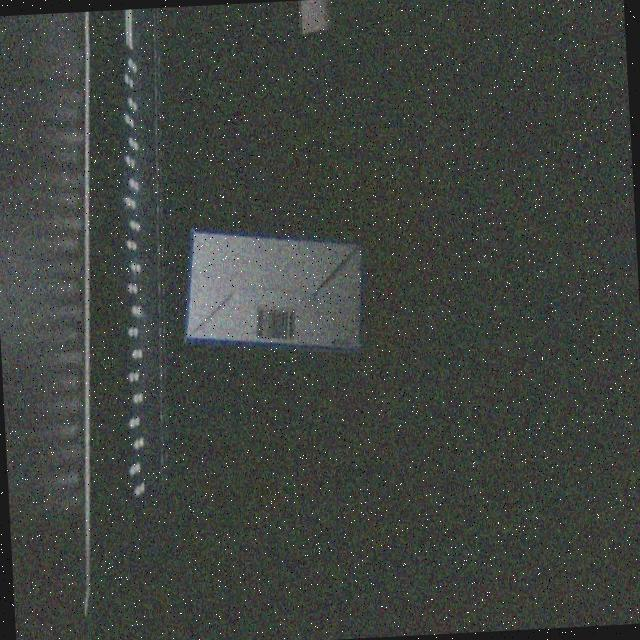prenolol: (182, 230, 362, 351)
